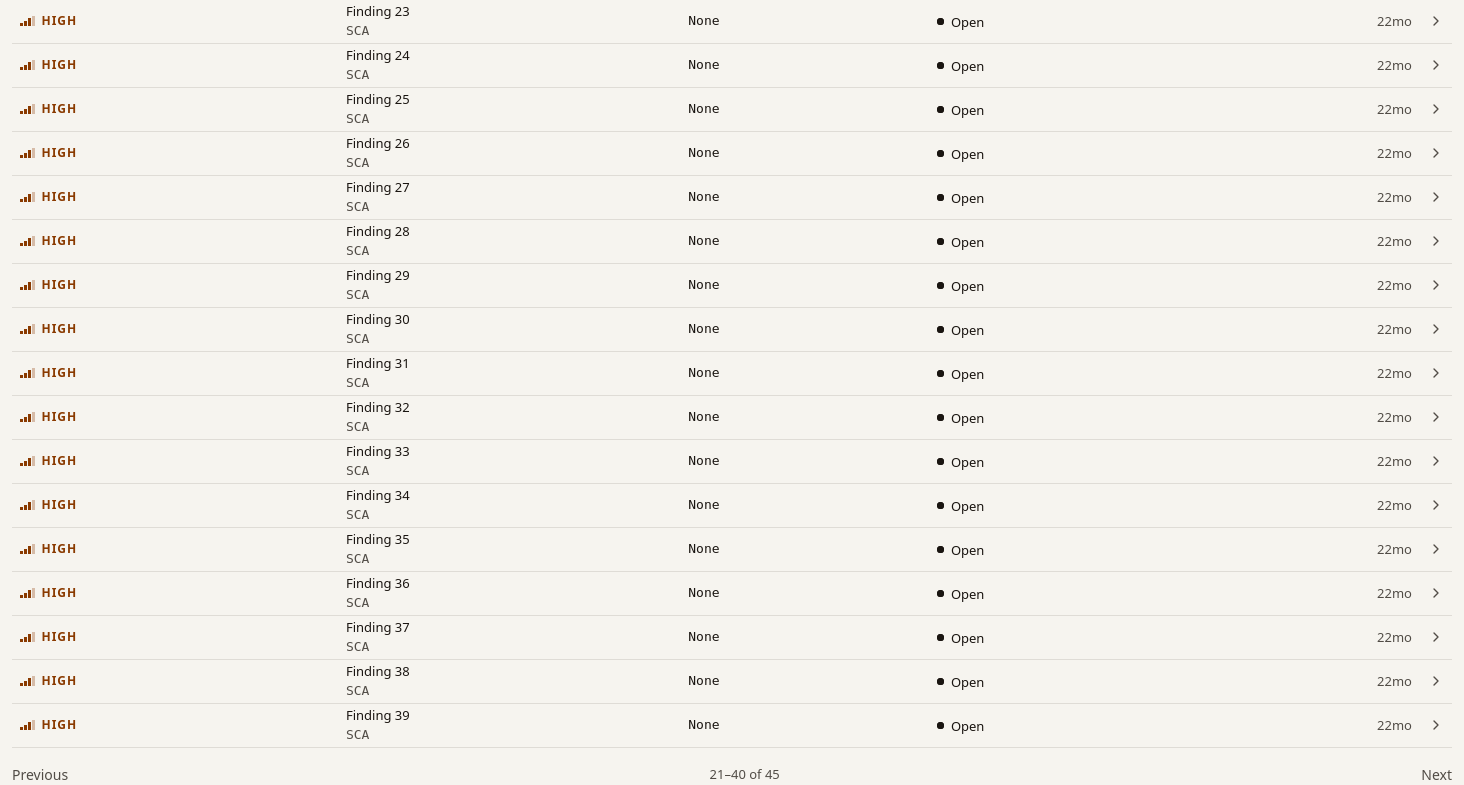
Scenario: FindingsDashboard › counts the filtered set so the pager stops at the real last page
This screenshot has width=1464, height=785.
(page scrolled)
expect the text "21–40 of 45" is shown: met, box [710,765,780,783]
Click the button with aria-label "Next page": {"x": 1437, "y": 774} [1421,764,1452,784]
(page scrolled)
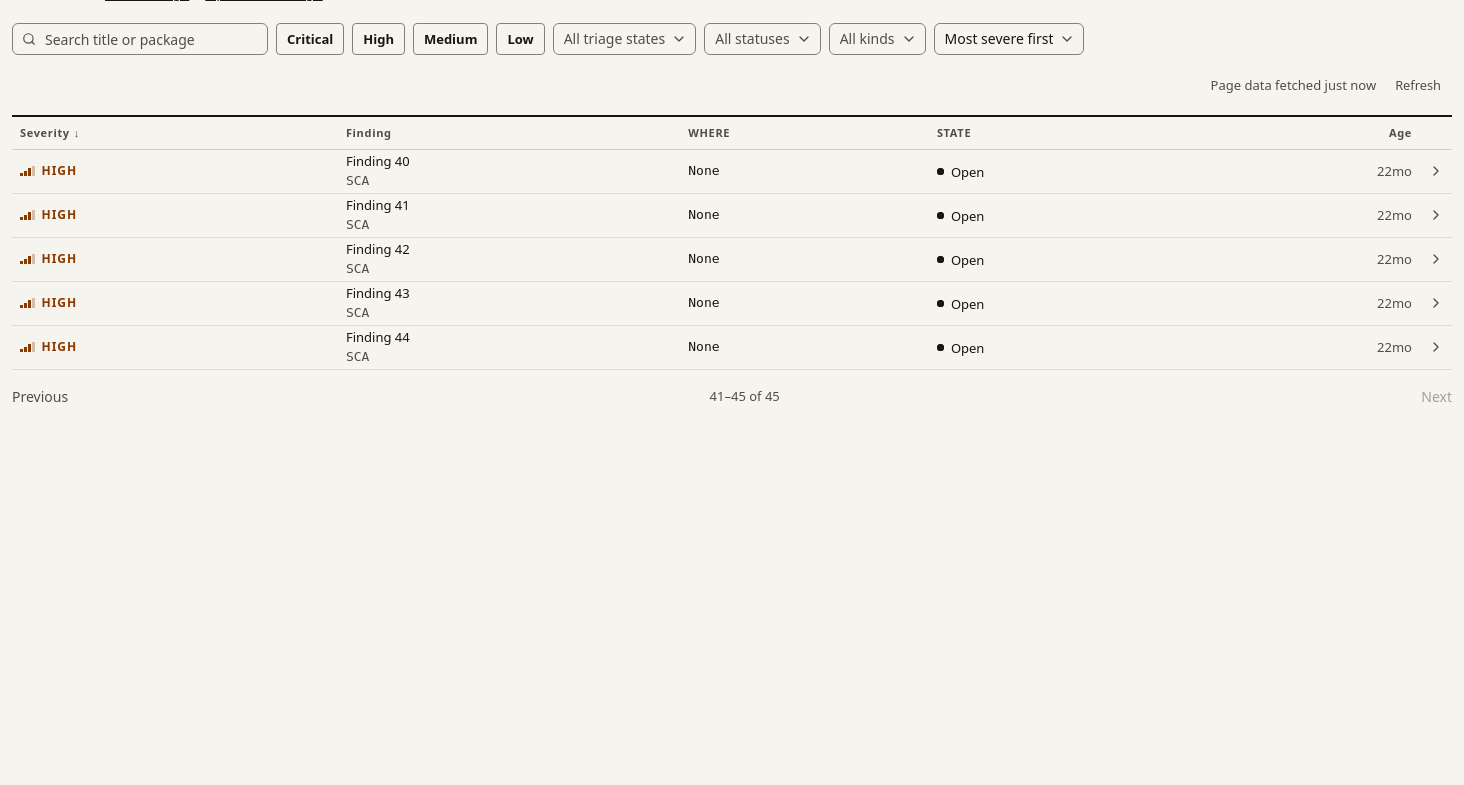
expect the link "Finding 40" is shown: met, box [346,152,410,170]
expect the text "41–45 of 45" is shown: met, box [710,387,780,405]
expect the button with aria-label "Next page" is disabled: met, box [1421,386,1452,406]
